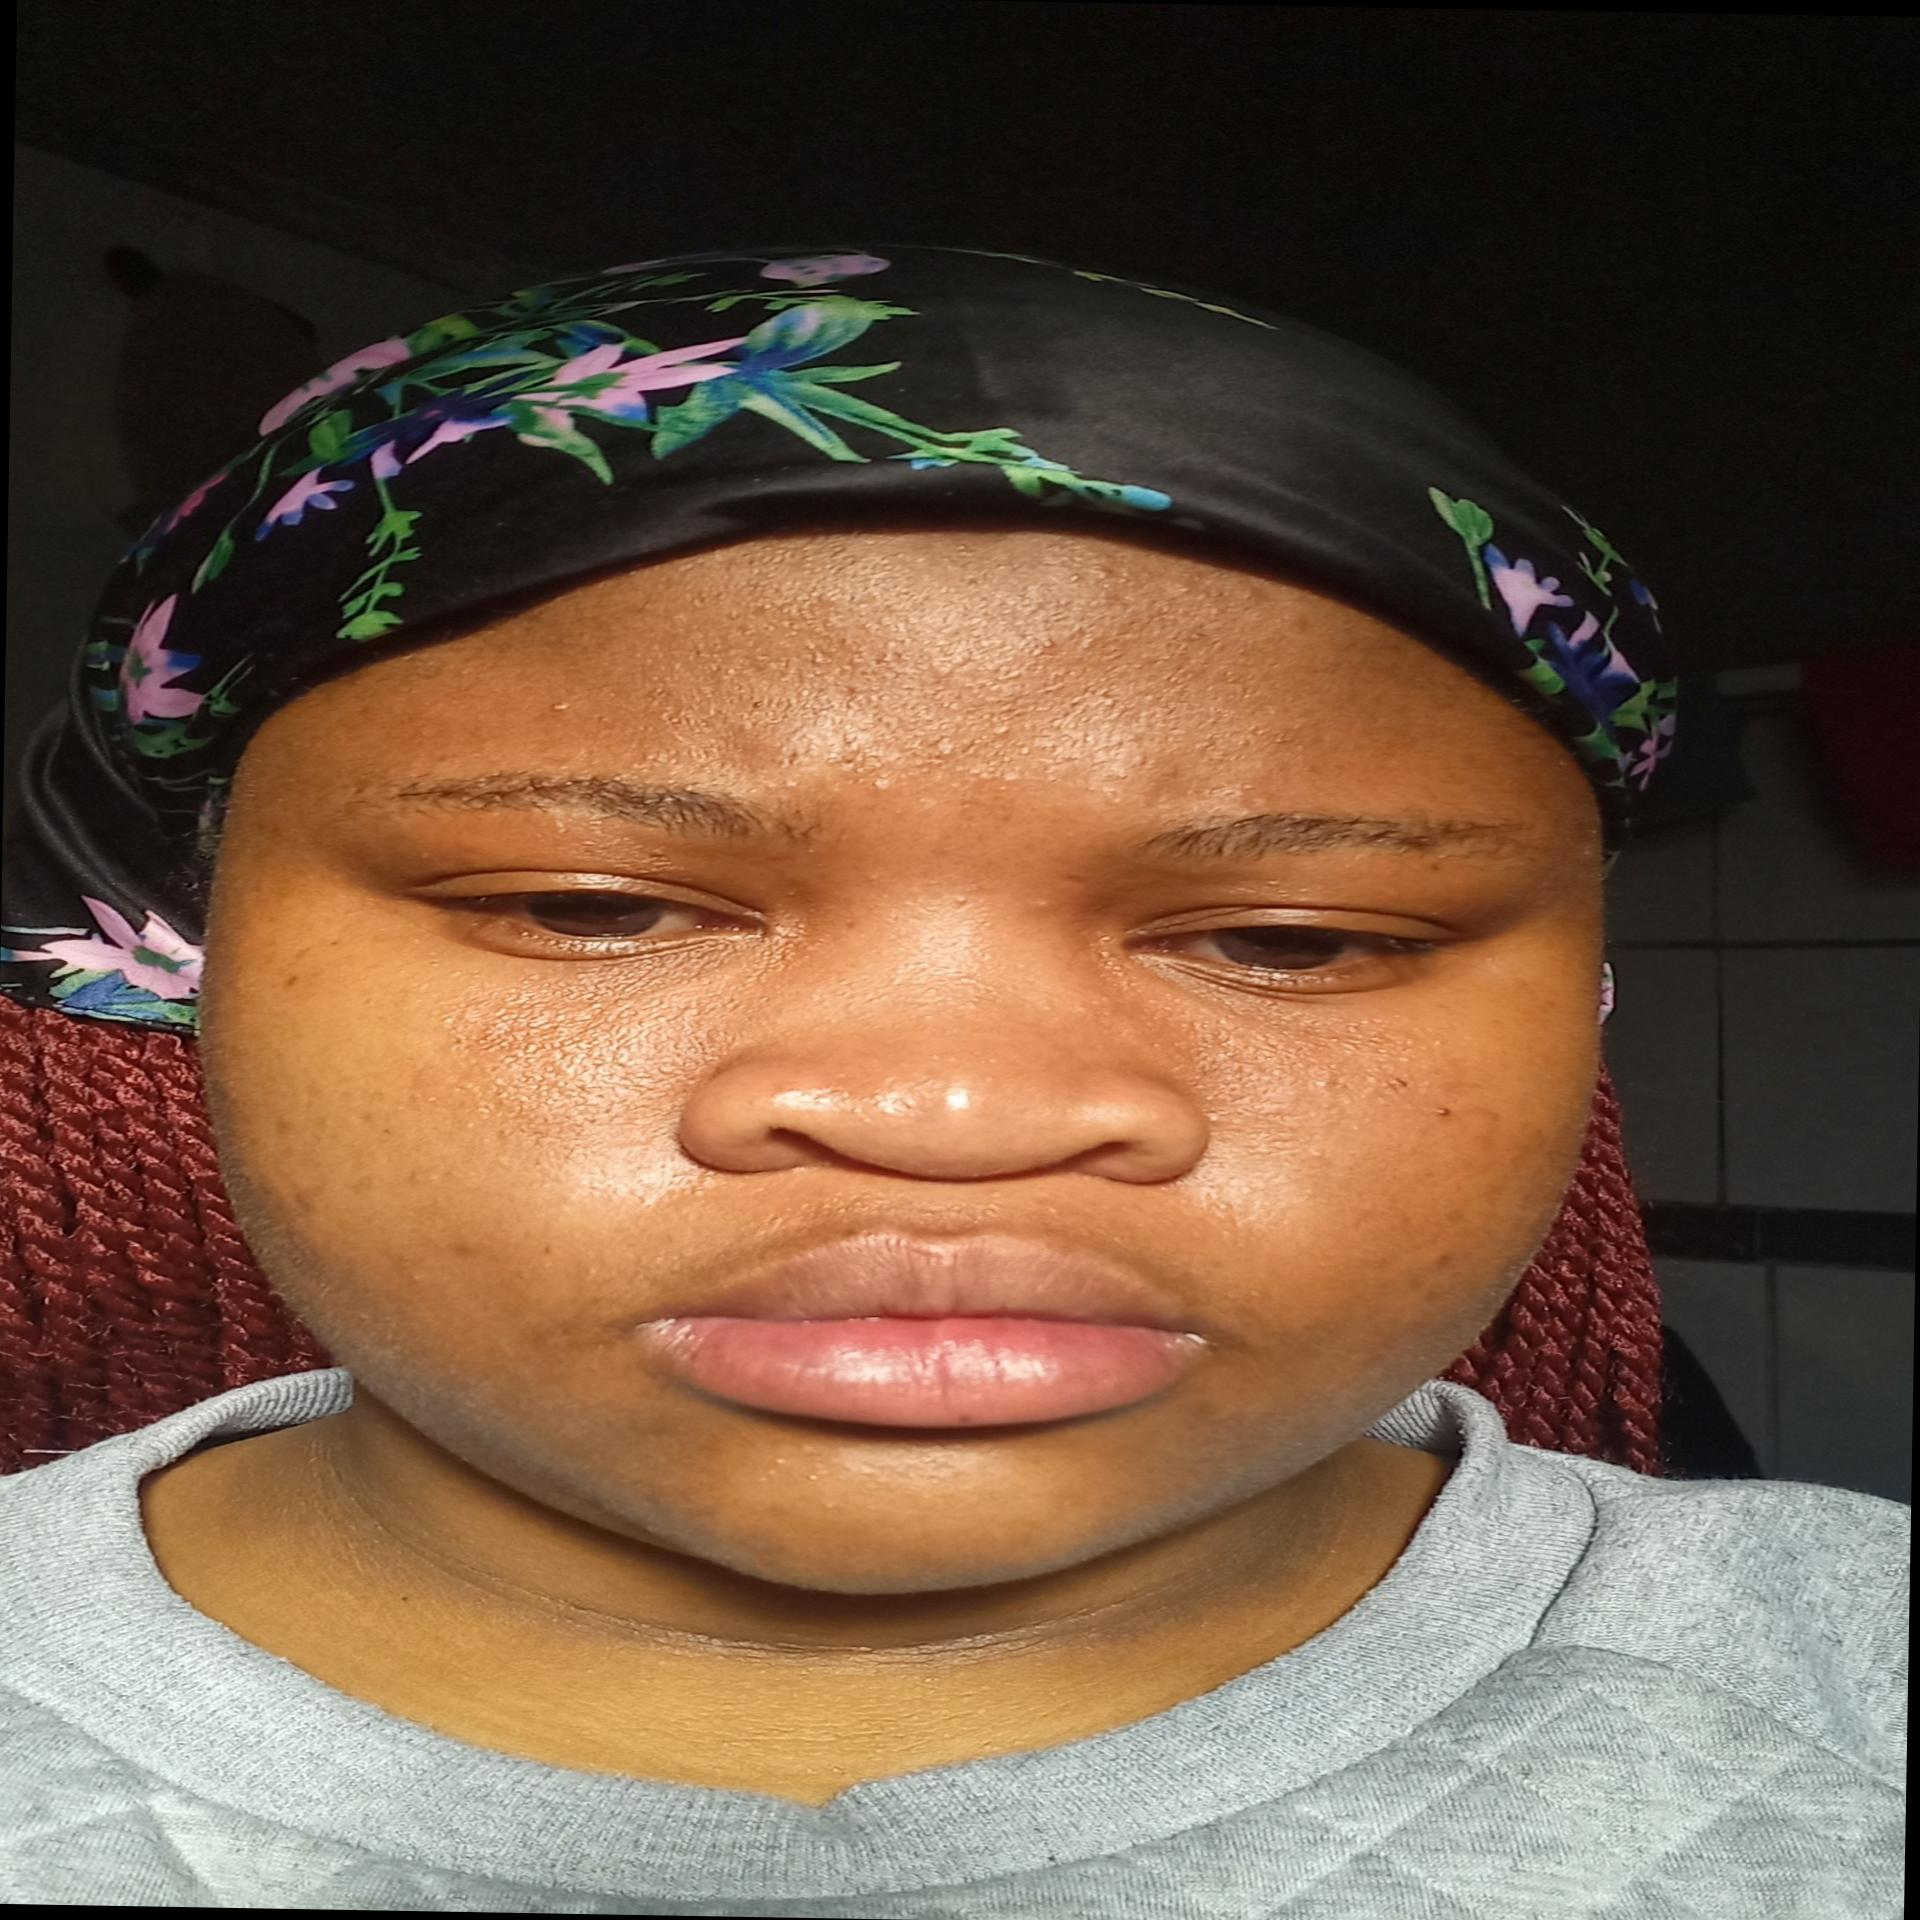Acne: (1398, 1248, 1463, 1303), (1178, 1391, 1231, 1429), (438, 1234, 482, 1261)
Blackhead: (1363, 1073, 1477, 1127), (271, 1104, 399, 1146), (274, 934, 338, 999)
